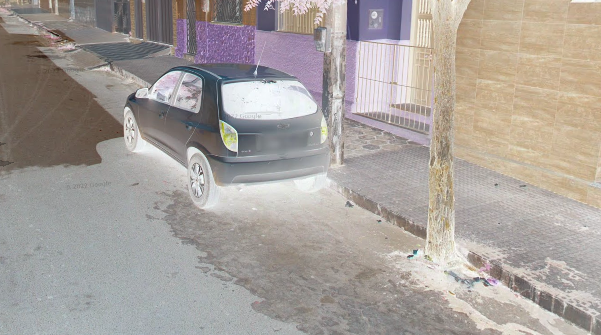car: (116, 37, 337, 222)
